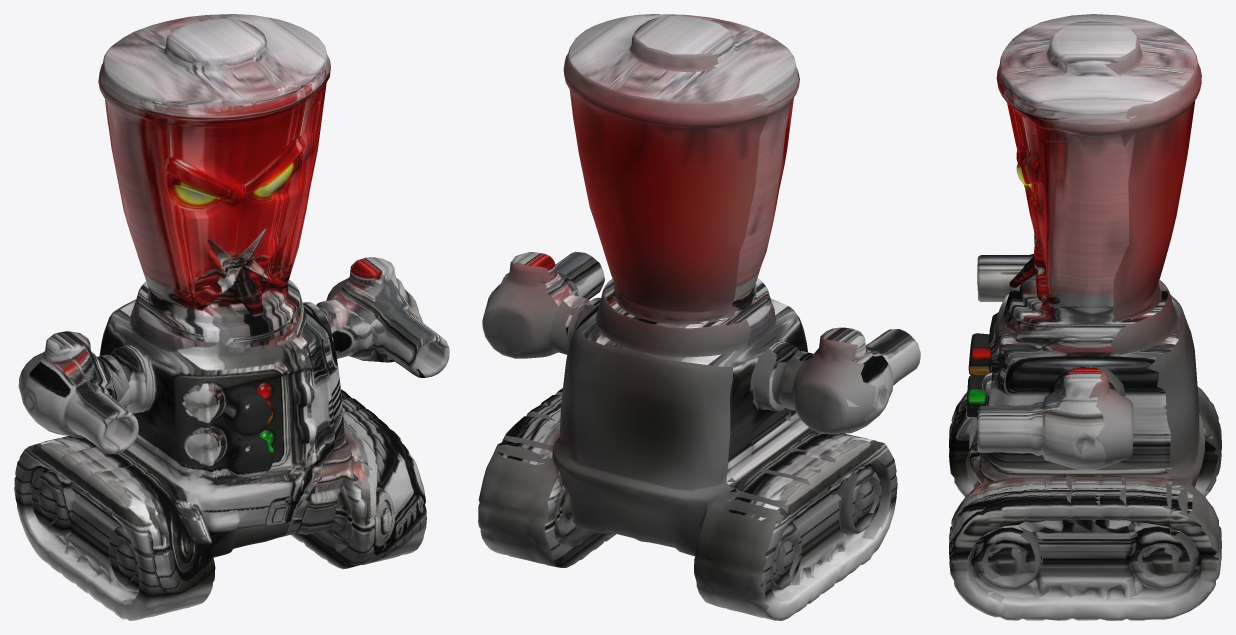
File: mixer_bot.glb
3 renders of one model, left to right at view 1: azimuth 30°, elevation 25°; view 2: azimuth 150°, elevation 25°; view 3: azimuth 270°, elevation 25°, orthographic. The views are drawn at different scales.
Visible parts, largest first — view 1: mixer_bot; view 2: mixer_bot; view 3: mixer_bot.
Part boxes in pixels (box(x1,y1,x2,y2)): mixer_bot: box(14, 14, 449, 620); mixer_bot: box(478, 14, 920, 620); mixer_bot: box(949, 14, 1221, 620).
Bounding box in the file's own units: 12 × 15.52 × 7.47.
1 material, 1 textured.
